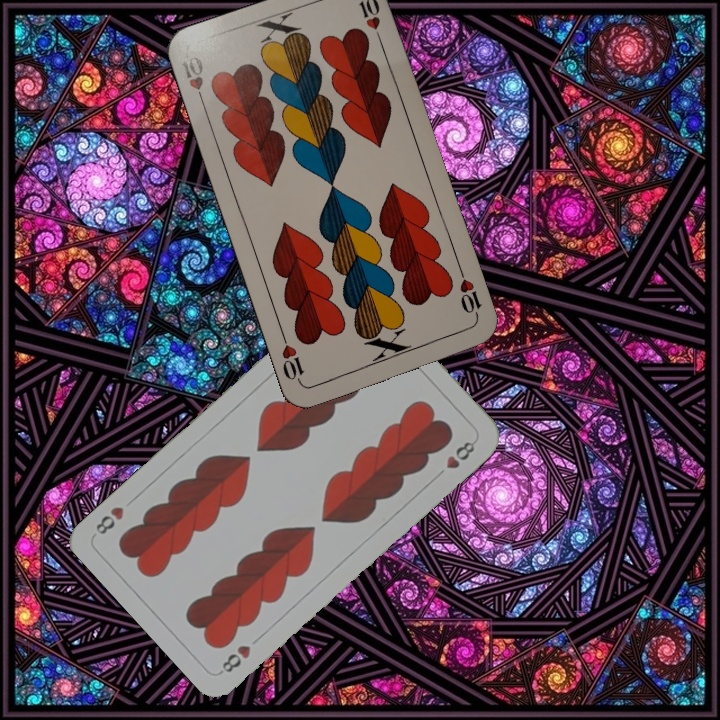H10: (178, 52, 208, 109), (455, 265, 485, 322)
H8: (216, 641, 254, 676)
